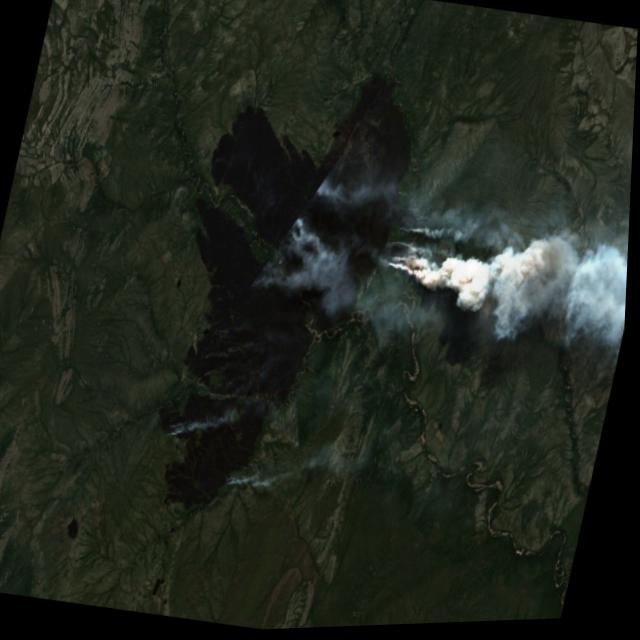fire: (367, 188, 442, 295)
